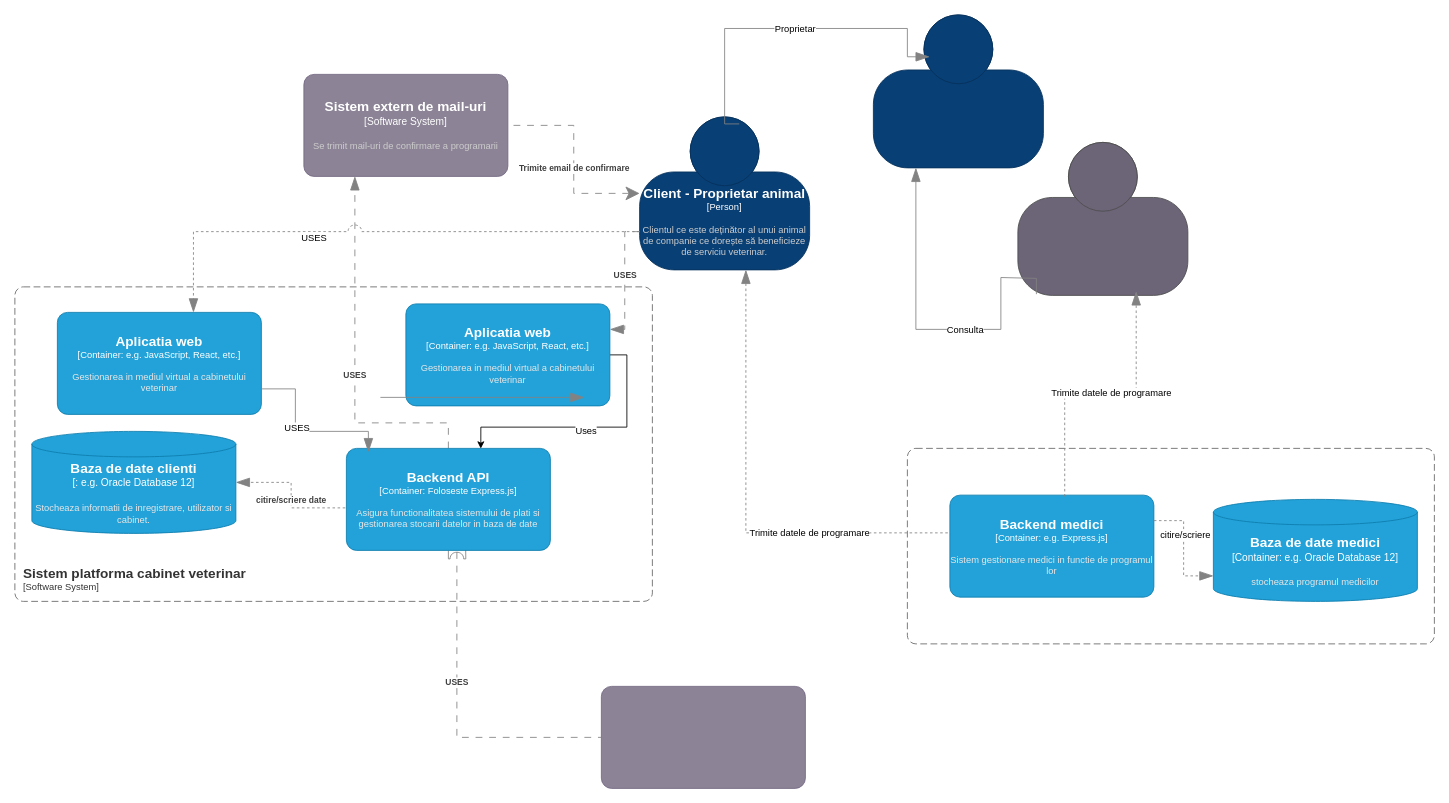
Some shapes in this 1449 by 803 pixel diagram are drawn without their labels. Each missing label, with the box of its shape:
Animal de companie [Animal] Animalul de companie al clientului: (873, 14, 1043, 168)
Medic [Personal medical] Medic ce operează în cabinetul veterinar: (1017, 142, 1188, 295)
Sistem de plati [Software System] Sistem extern de gestionare a plății: (601, 686, 805, 788)
Sistem gestiune medici [Software System]: (907, 448, 1434, 644)
